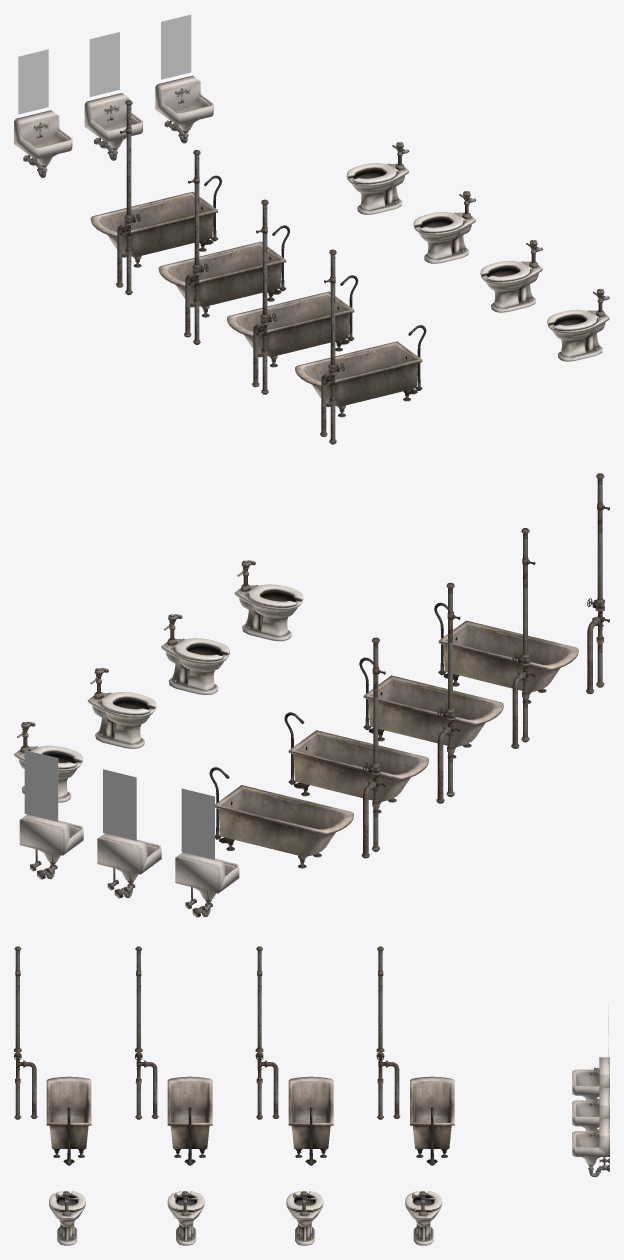
The model's file is Baño2.fbx.
The picture shows the model from 3 angles, top to bottom: view 1: azimuth 30°, elevation 25°; view 2: azimuth 150°, elevation 25°; view 3: azimuth 270°, elevation 25°; orthographic projection. The views are drawn at different scales.
Parts seen in each view (by area): view 1: Plane.110, Hospital_02.006, Hospital_02.005, Hospital_02.004, Hospital_02.003, main.102, main.099, main.100, main.101, main.103, main.105, main.104 (+4 smaller); view 2: Hospital_02.003, Plane.110, Hospital_02.004, Hospital_02.005, Hospital_02.006, main.102, main.101, main.100, main.104, main.103, main.105, Hospital_02.007 (+4 smaller); view 3: Hospital_02.006, Hospital_02.005, Hospital_02.004, Hospital_02.003, main.103, main.099, main.102, main.101, main.100, Hospital_02.007, Hospital_02.008, Hospital_02.009 (+3 smaller).
Boxes of the visible parts, x1=… form: Plane.110: x1=18, y1=14, x2=191, y2=114; Hospital_02.006: x1=295, y1=325, x2=426, y2=417; Hospital_02.005: x1=227, y1=275, x2=358, y2=367; Hospital_02.004: x1=158, y1=225, x2=289, y2=317; Hospital_02.003: x1=90, y1=175, x2=221, y2=267; main.102: x1=547, y1=288, x2=609, y2=361; main.099: x1=346, y1=142, x2=409, y2=214; main.100: x1=413, y1=191, x2=475, y2=263; main.101: x1=480, y1=240, x2=542, y2=312; main.103: x1=155, y1=75, x2=213, y2=143; main.105: x1=14, y1=110, x2=72, y2=177; main.104: x1=84, y1=93, x2=142, y2=160; Hospital_02.003: x1=209, y1=767, x2=353, y2=868; Plane.110: x1=24, y1=750, x2=214, y2=859; Hospital_02.004: x1=284, y1=712, x2=428, y2=813; Hospital_02.005: x1=359, y1=657, x2=503, y2=758; Hospital_02.006: x1=434, y1=602, x2=578, y2=703; main.102: x1=234, y1=560, x2=303, y2=641; main.101: x1=161, y1=614, x2=229, y2=694; main.100: x1=87, y1=668, x2=156, y2=748; main.104: x1=97, y1=833, x2=161, y2=898; main.103: x1=19, y1=814, x2=83, y2=879; main.105: x1=175, y1=852, x2=239, y2=917; Hospital_02.007: x1=361, y1=637, x2=385, y2=858; Hospital_02.006: x1=46, y1=1076, x2=91, y2=1165; Hospital_02.005: x1=167, y1=1076, x2=212, y2=1165; Hospital_02.004: x1=288, y1=1076, x2=333, y2=1165; Hospital_02.003: x1=410, y1=1076, x2=454, y2=1165; main.103: x1=572, y1=1118, x2=609, y2=1177; main.099: x1=405, y1=1191, x2=442, y2=1245; main.102: x1=49, y1=1191, x2=85, y2=1245; main.101: x1=167, y1=1191, x2=204, y2=1245; main.100: x1=286, y1=1191, x2=323, y2=1245; Hospital_02.007: x1=376, y1=946, x2=400, y2=1119; Hospital_02.008: x1=255, y1=946, x2=279, y2=1119; Hospital_02.009: x1=135, y1=946, x2=158, y2=1119.
Size of the model in its own units: 1029 by 614 by 1936.
7 materials, 6 textured.
